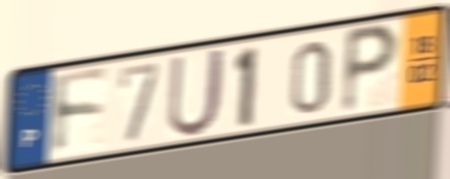0: (288, 38, 338, 116)
1: (232, 42, 261, 130)
7: (116, 58, 161, 146)
F: (51, 65, 112, 160)
P: (338, 21, 402, 118)
U: (164, 44, 228, 140)
